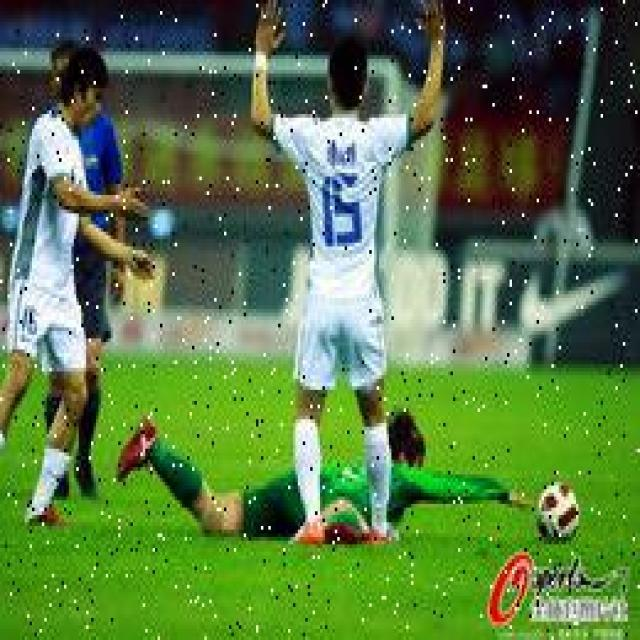fall: (120, 405, 482, 533)
